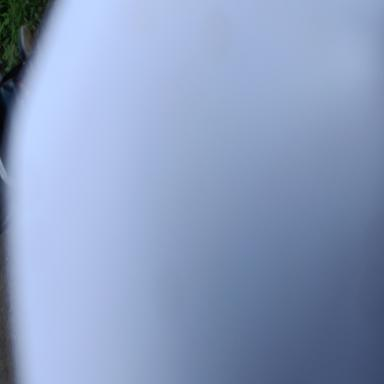pbw: (202, 234, 231, 236)
